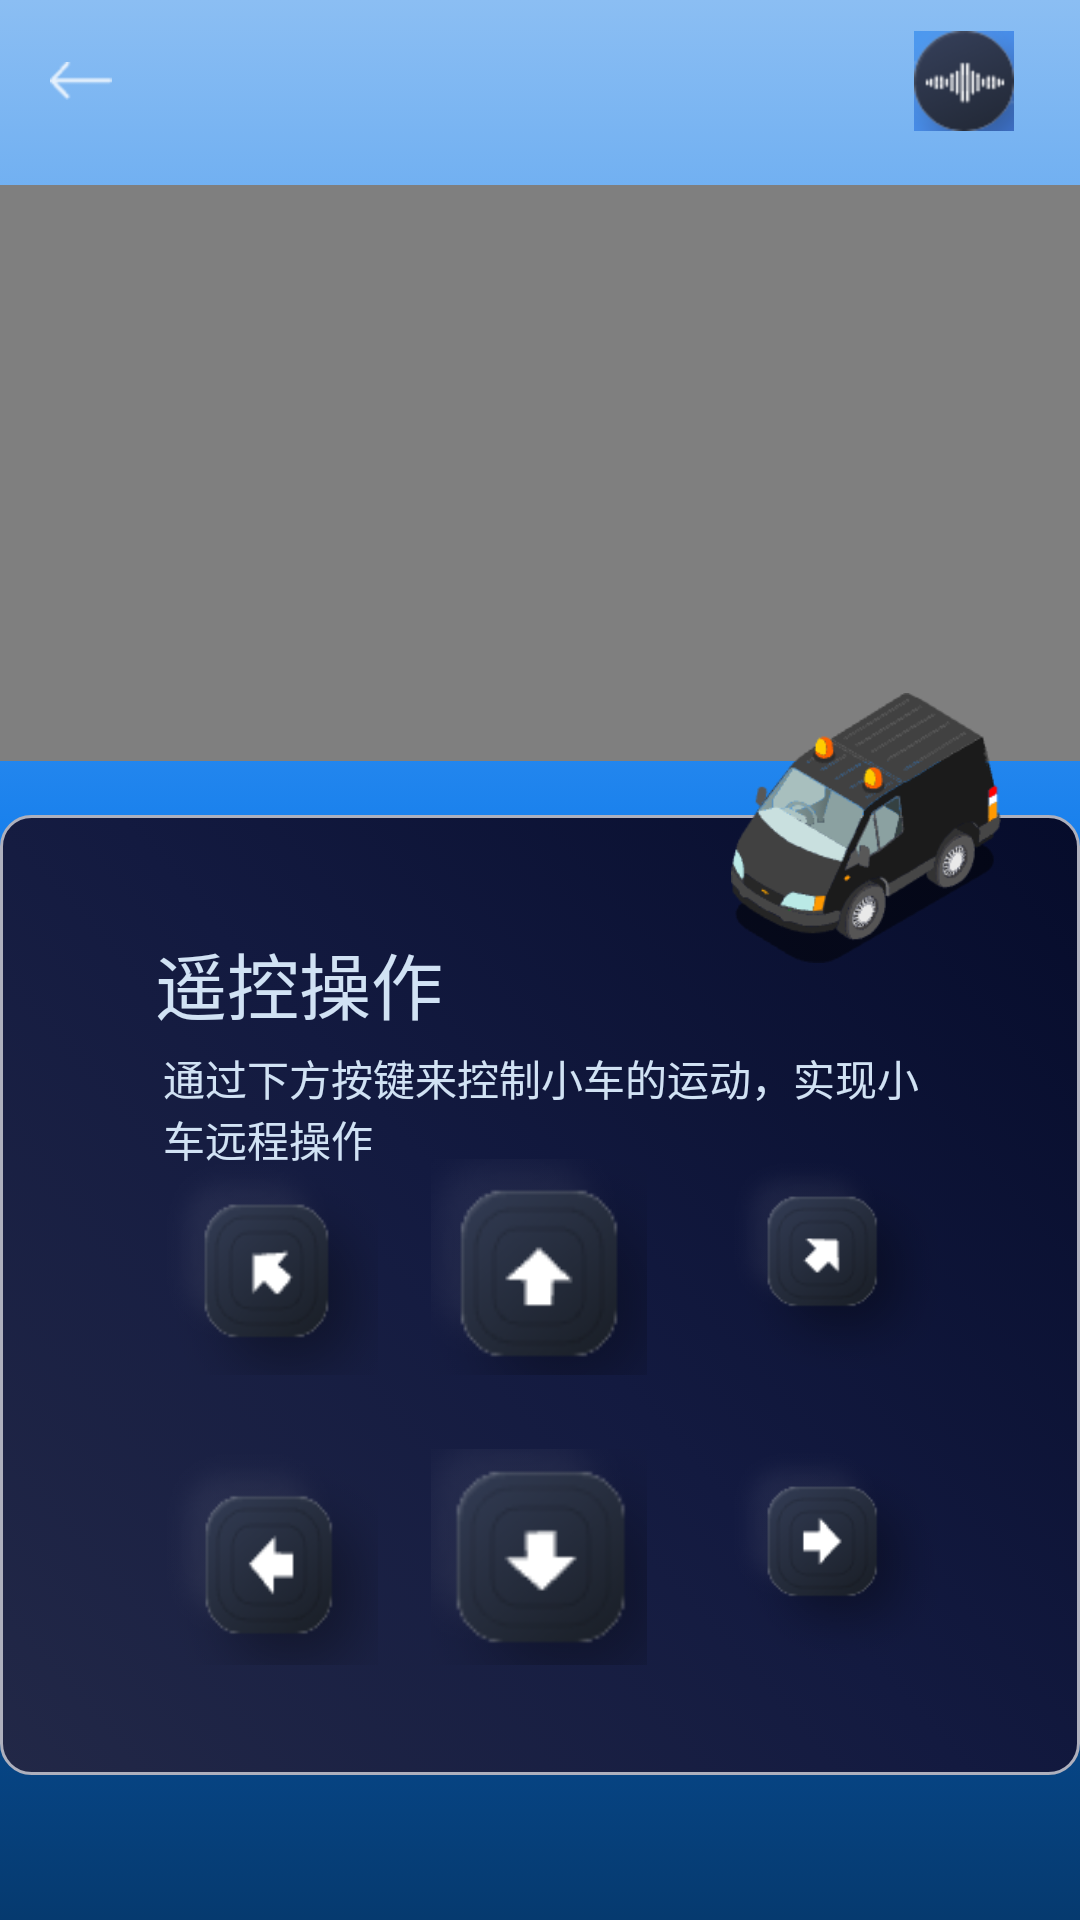

Named icons in this screenshot (1080px x 1920px) and their centers, (x,y):
car: (866,828)
down: (549,1557)
left: (277,1572)
left up: (266,1270)
ret: (81,54)
right: (836,1551)
